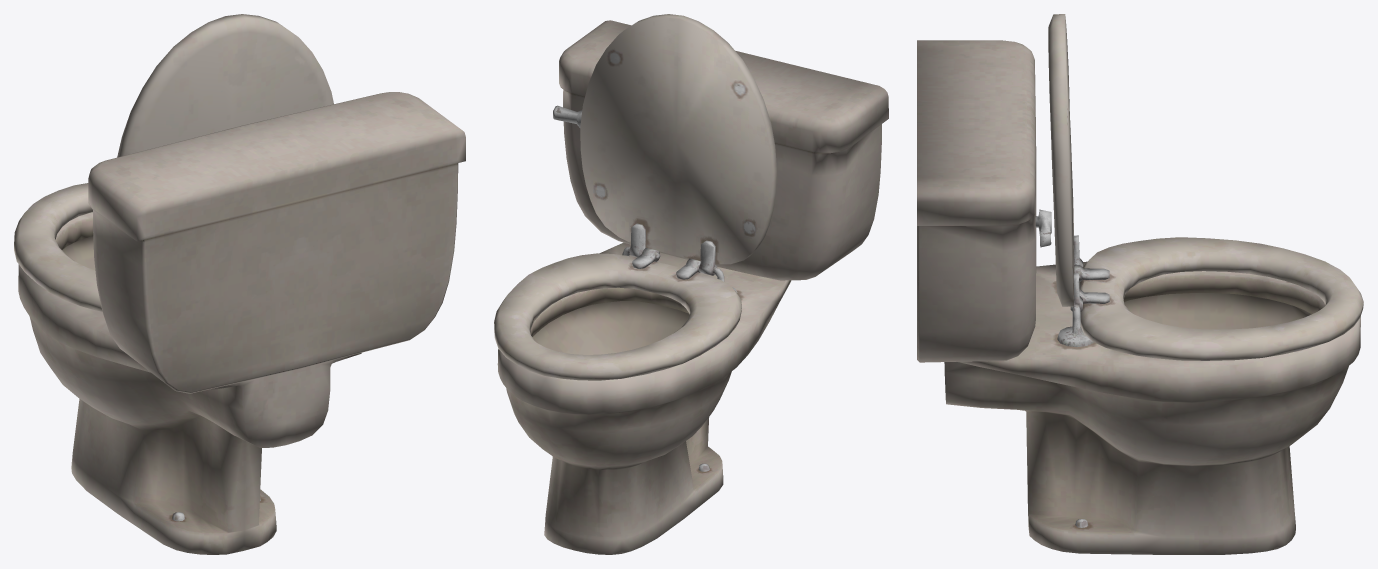
Rendered from SkibidiToilet.fbx.
3 views of the same model, side by side, from view 1: azimuth 30°, elevation 25°; view 2: azimuth 150°, elevation 25°; view 3: azimuth 270°, elevation 25° (orthographic). The views are drawn at different scales.
Parts seen in each view (by area): view 1: M_MED_PageTruffle_Pack_LOD0.003; view 2: M_MED_PageTruffle_Pack_LOD0.003; view 3: M_MED_PageTruffle_Pack_LOD0.003.
Boxes of the visible parts, left/top/right/bottom form: M_MED_PageTruffle_Pack_LOD0.003: left=14, top=14, right=465, bottom=554; M_MED_PageTruffle_Pack_LOD0.003: left=494, top=14, right=888, bottom=554; M_MED_PageTruffle_Pack_LOD0.003: left=917, top=14, right=1363, bottom=554.
Size of the model in its own units: 432 by 652 by 521.
